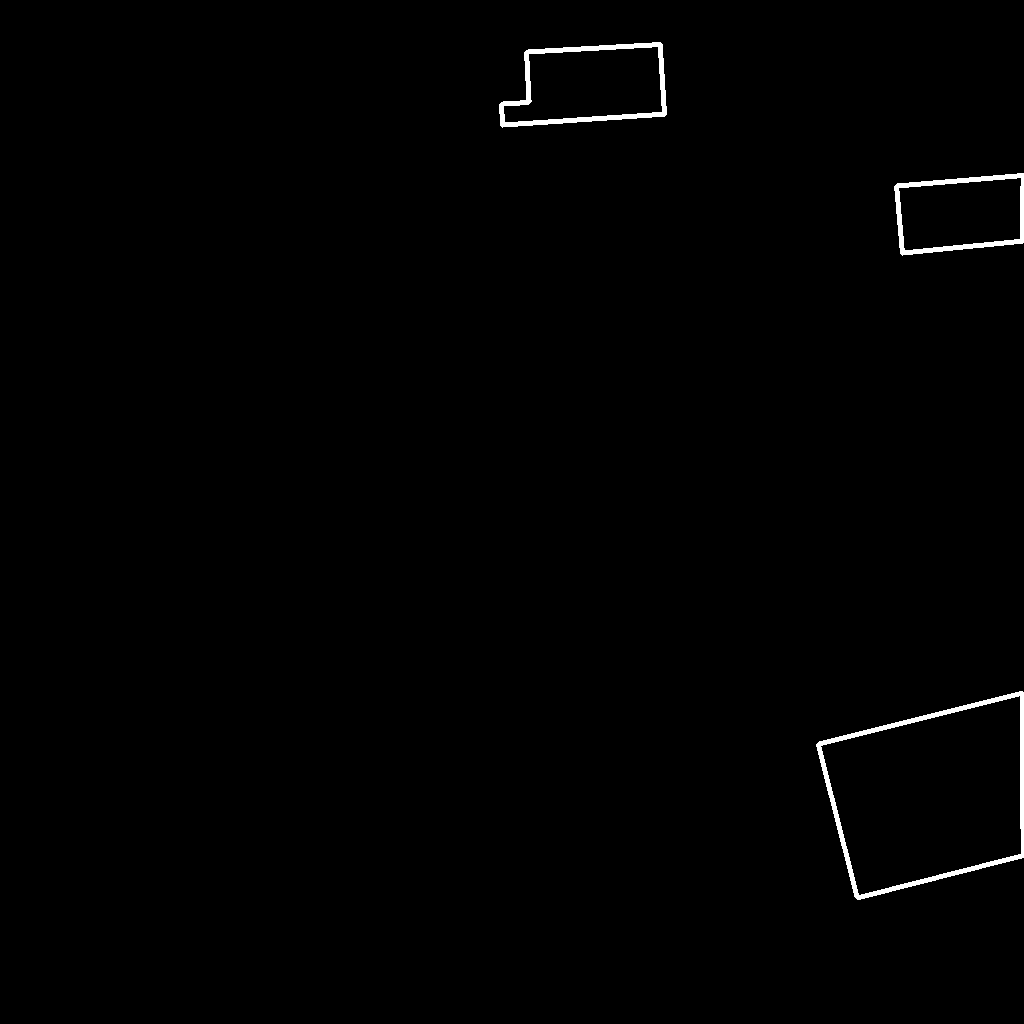building: (818, 693, 1024, 899), (501, 44, 666, 126), (896, 175, 1024, 254)
